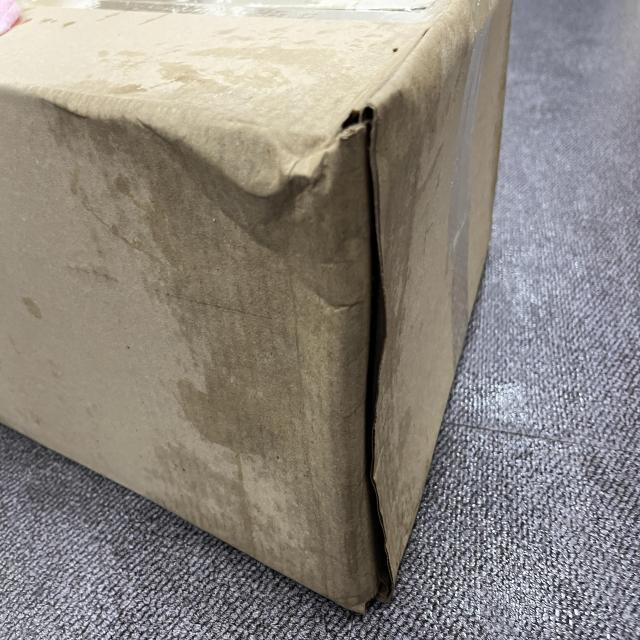wet: (86, 18, 441, 594)
